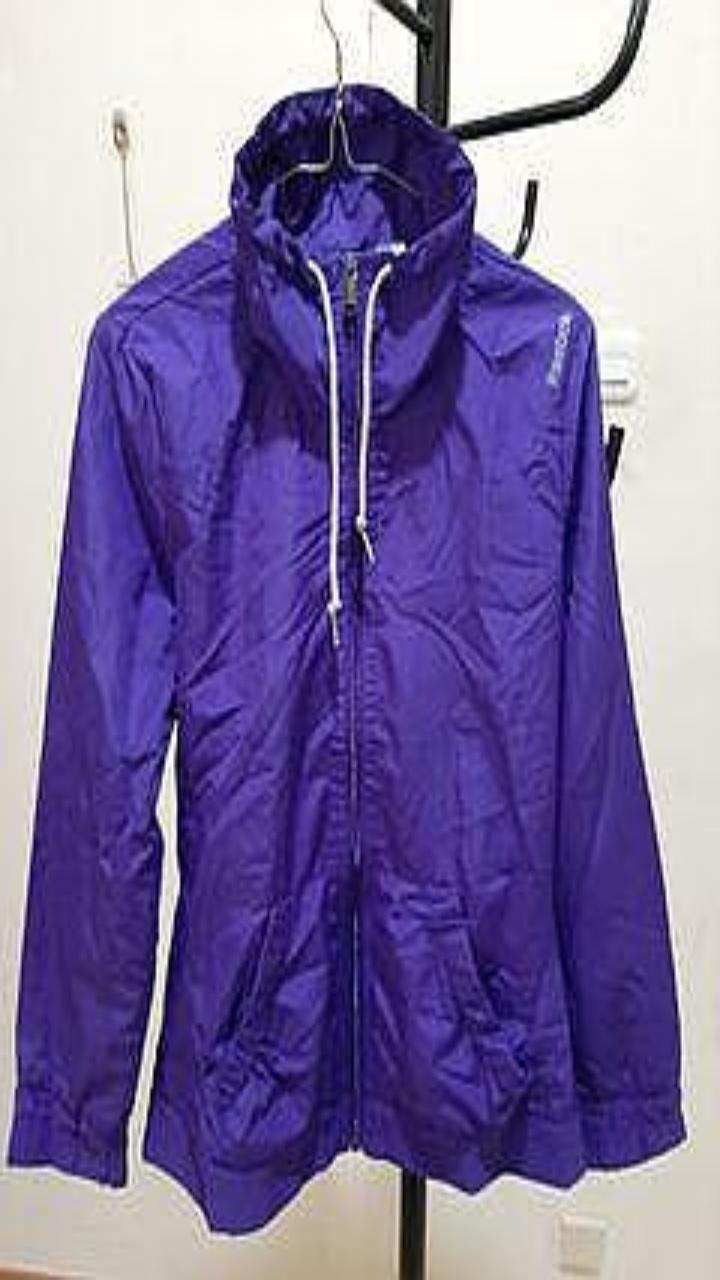Sports_Jacket: (7, 82, 684, 1232)
